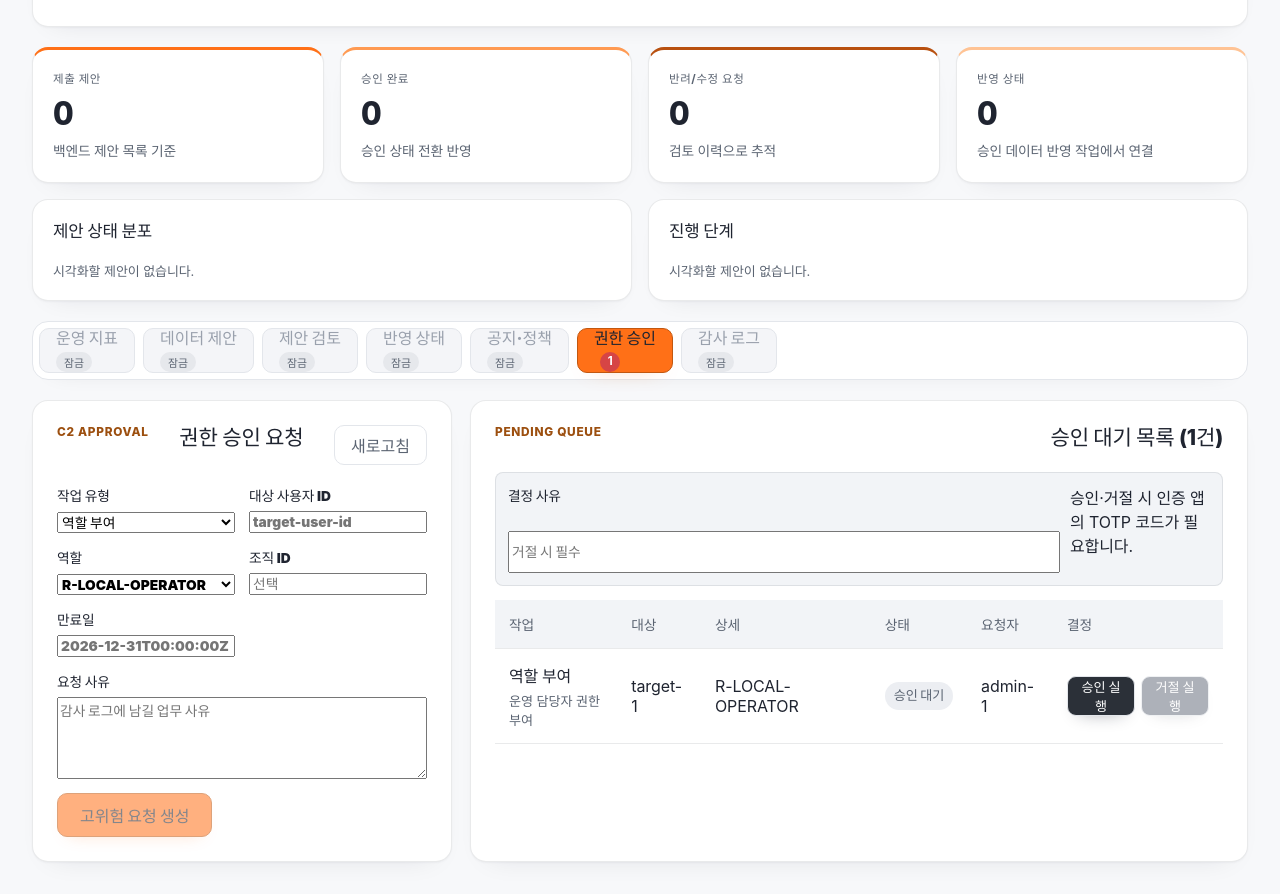
Test: high-risk decision flows (super admin) › keeps the decision blocked when TOTP verification fails
(page scrolled)
Expected: the heading "권한 승인 요청" is shown, [179, 425, 303, 452]
Click the button "승인 실행". click: click(1101, 696)
box: [1067, 676, 1135, 716]
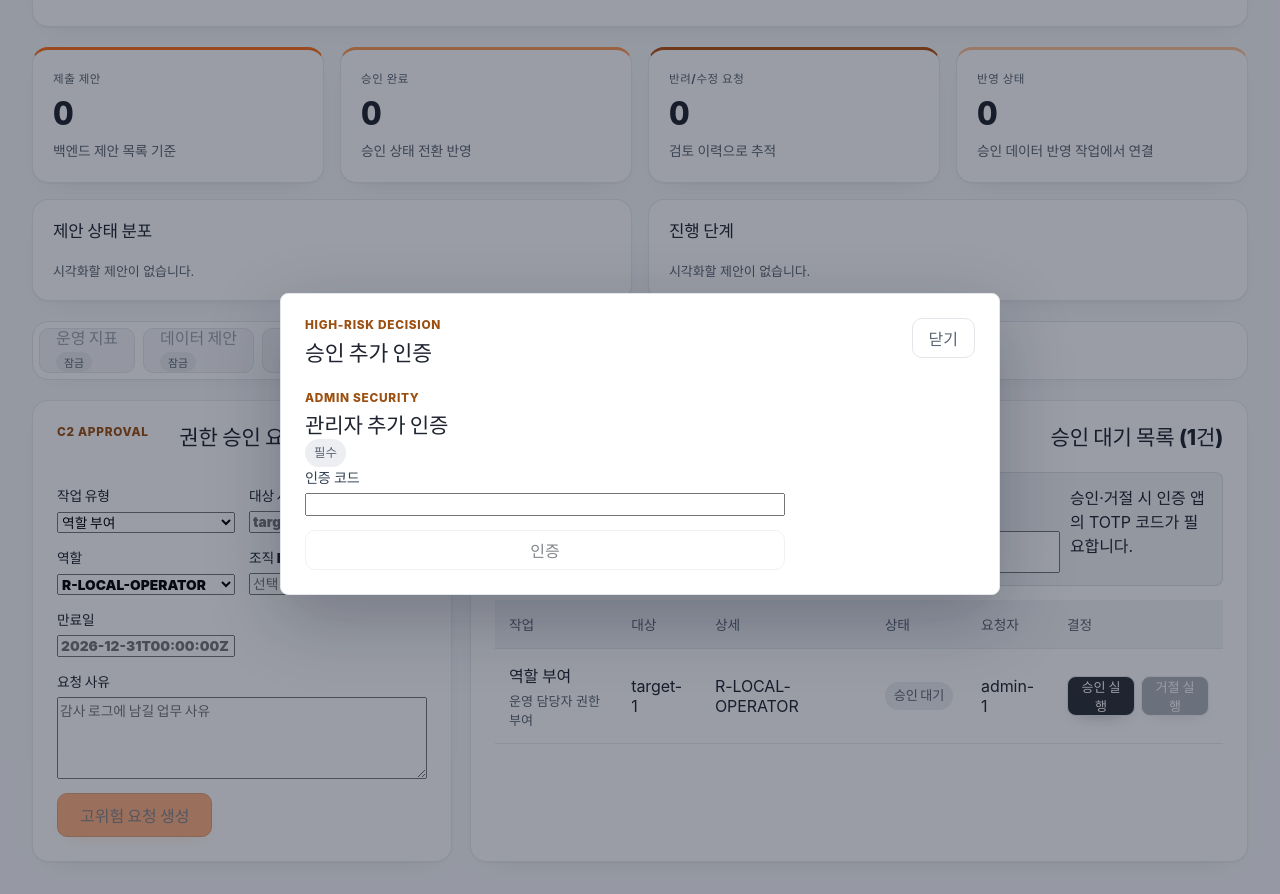
Type "000000" into the field labelled "인증 코드". click: (545, 505)
box: [305, 493, 785, 516]
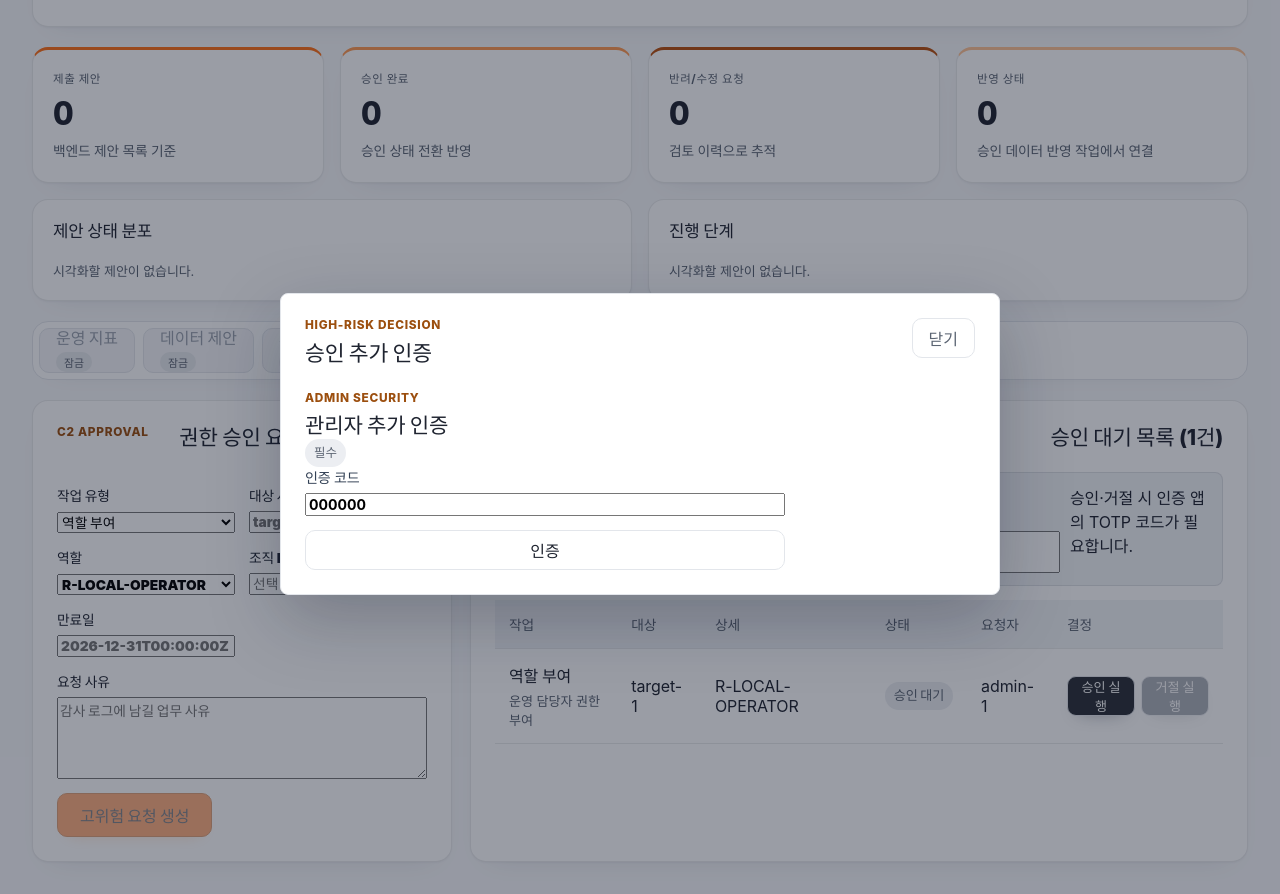
Click the button "인증". click: click(545, 550)
box: [305, 530, 785, 570]
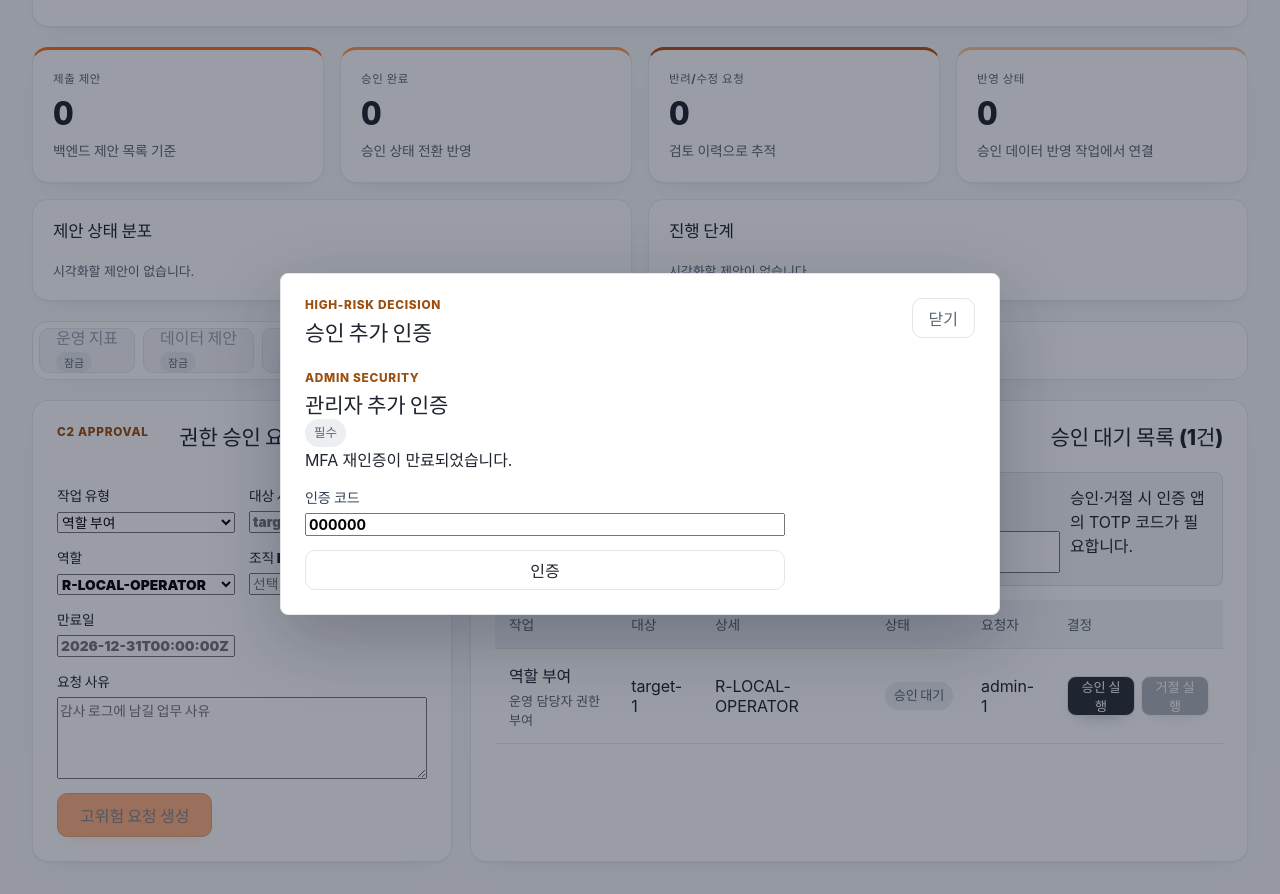
Expected: the text "MFA 재인증이 만료되었습니다." is shown, [305, 450, 512, 470]
